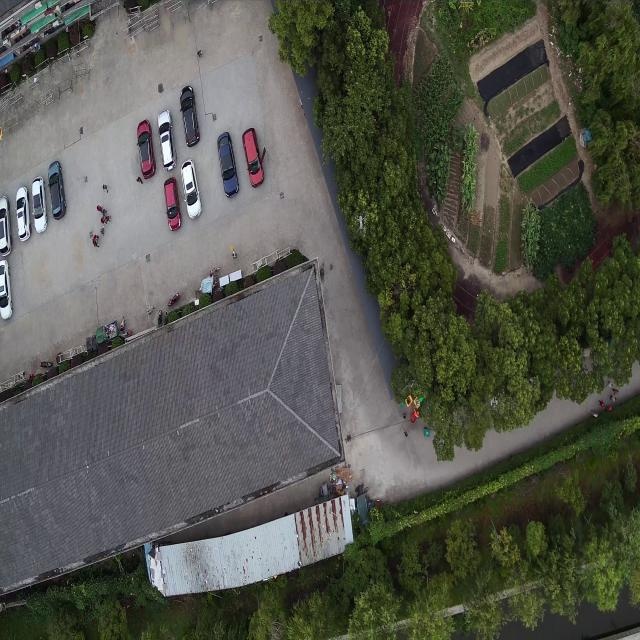UAV: (354, 215, 367, 233)
